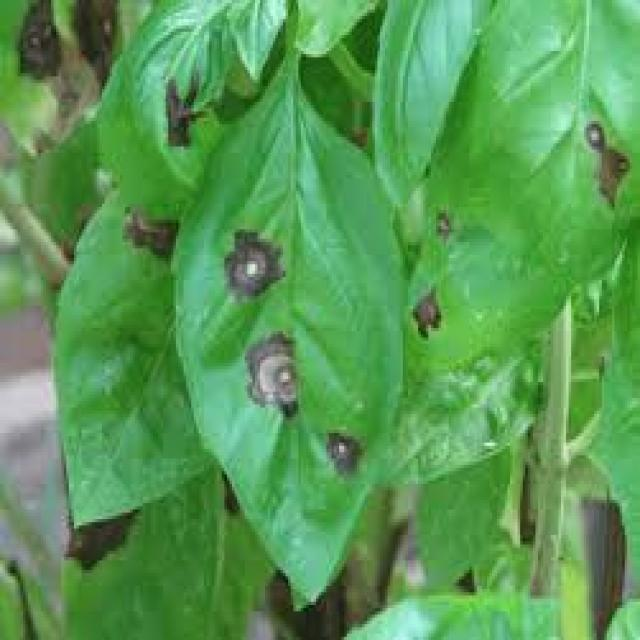bercak_daun: (170, 95, 430, 605)
